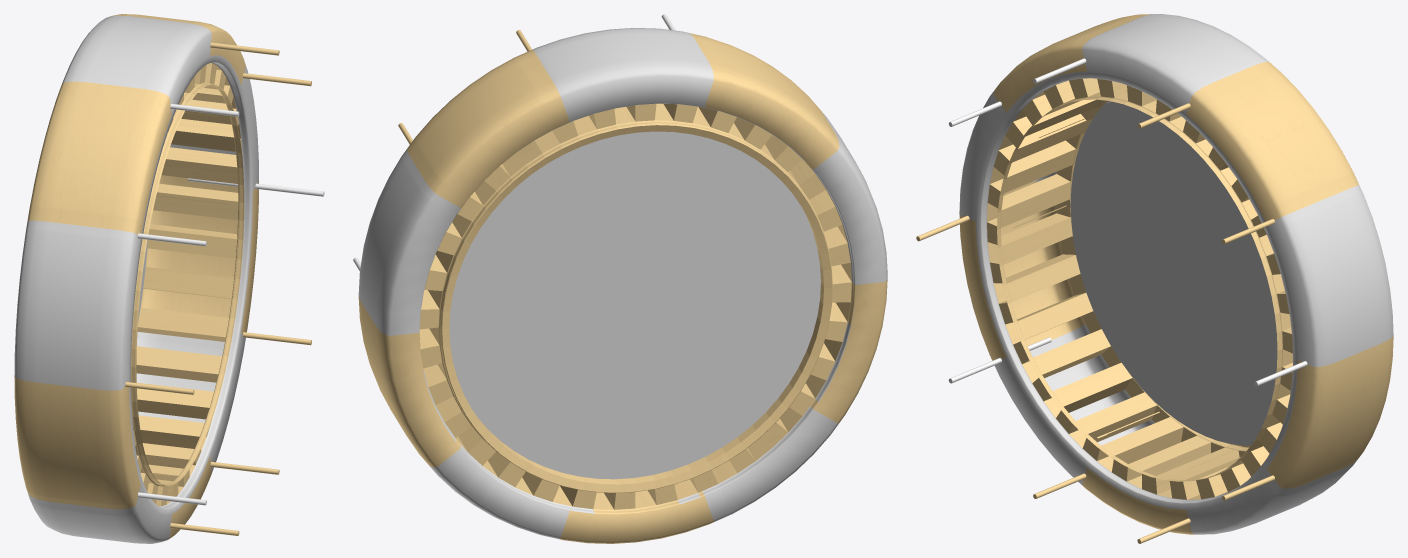
The model's file is CopyRuleta.fbx.
3 views of the same model, side by side, from view 1: azimuth 30°, elevation 25°; view 2: azimuth 150°, elevation 25°; view 3: azimuth 270°, elevation 25° (orthographic).
Visible parts, largest first — view 1: Cylinder.007; view 2: Cylinder.007; view 3: Cylinder.007.
Part boxes in pixels (x1=…): Cylinder.007: x1=14, y1=14, x2=324, y2=543; Cylinder.007: x1=353, y1=14, x2=887, y2=543; Cylinder.007: x1=916, y1=14, x2=1393, y2=543.
Size of the model in its own units: 1.08 by 1.17 by 1.07.
4 materials, 1 textured.
